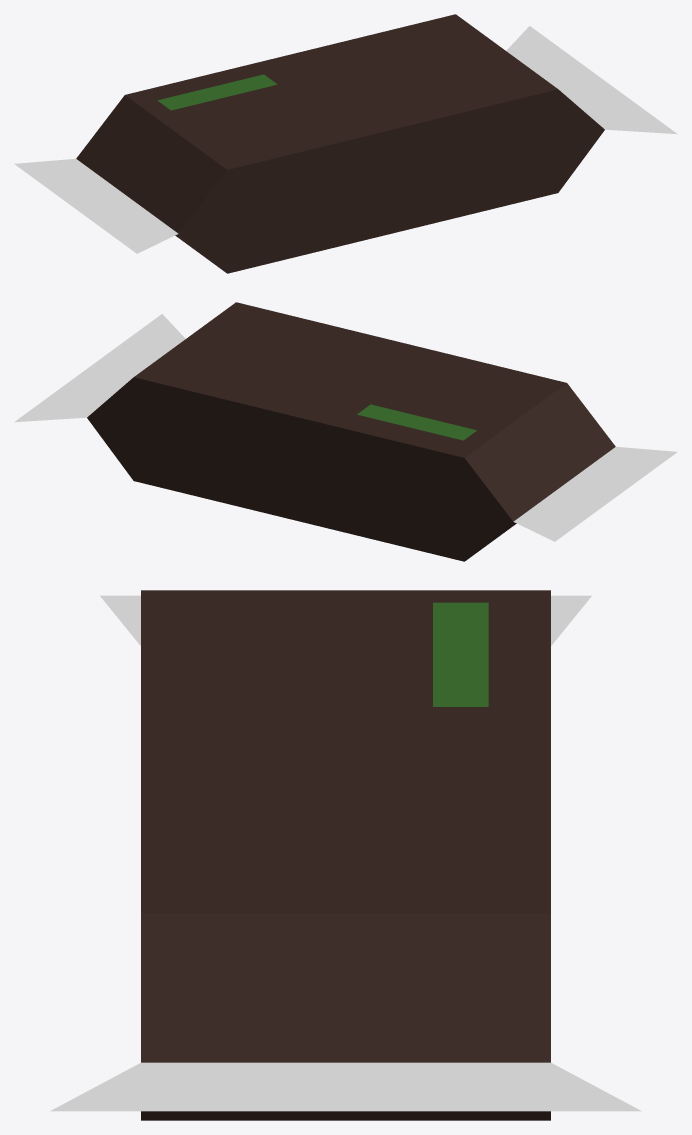
File: i_chocobar_bio.glb
3 views of the same model, one above another, from view 1: azimuth 30°, elevation 25°; view 2: azimuth 150°, elevation 25°; view 3: azimuth 270°, elevation 25° (orthographic). The views are drawn at different scales.
Visible parts, largest first — view 1: Cube, Plane; view 2: Cube, Plane; view 3: Cube, Plane.
Boxes of the visible parts, x1,y1,x2,y2 form: Cube: [14, 14, 677, 273]; Plane: [157, 74, 277, 110]; Cube: [14, 302, 677, 561]; Plane: [357, 404, 476, 440]; Cube: [50, 590, 641, 1120]; Plane: [433, 602, 488, 706].
Bounding box in the file's own units: 1.15 × 0.2198 × 0.5588.
